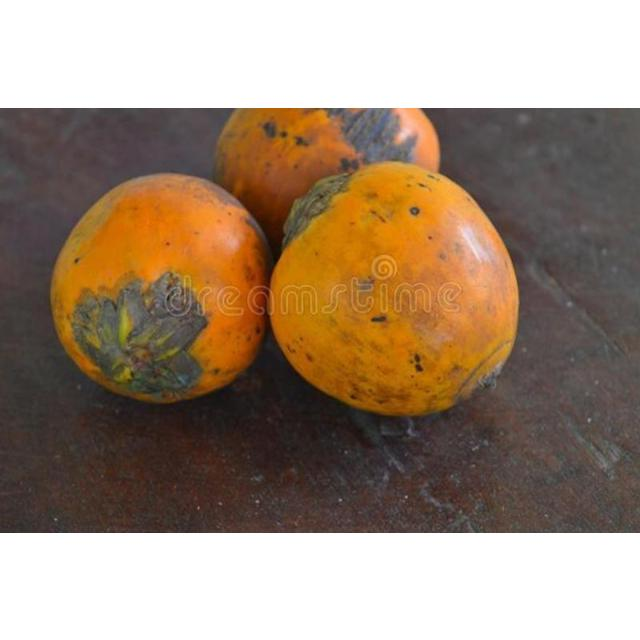good: (268, 161, 520, 418), (48, 173, 278, 405), (210, 107, 438, 251)
